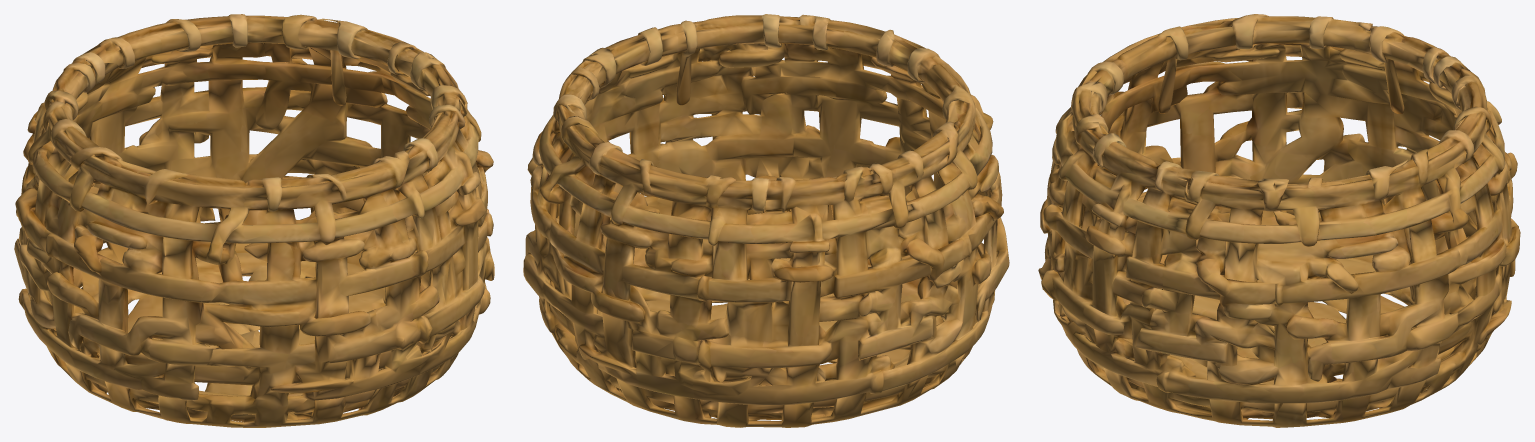
Rendered from basket.glb.
The picture shows the model from 3 angles, left to right: view 1: azimuth 30°, elevation 25°; view 2: azimuth 150°, elevation 25°; view 3: azimuth 270°, elevation 25°; orthographic projection.
Visible parts, largest first — view 1: tripo_node_147cd296-65f2-4136-9f85-748e1241da4d; view 2: tripo_node_147cd296-65f2-4136-9f85-748e1241da4d; view 3: tripo_node_147cd296-65f2-4136-9f85-748e1241da4d.
Boxes of the visible parts, left/top/right/bottom form: tripo_node_147cd296-65f2-4136-9f85-748e1241da4d: left=14, top=14, right=494, bottom=427; tripo_node_147cd296-65f2-4136-9f85-748e1241da4d: left=523, top=14, right=1009, bottom=427; tripo_node_147cd296-65f2-4136-9f85-748e1241da4d: left=1038, top=14, right=1520, bottom=427.
Size of the model in its own units: 0.9798 by 0.5579 by 0.974.
1 material, 1 textured.
